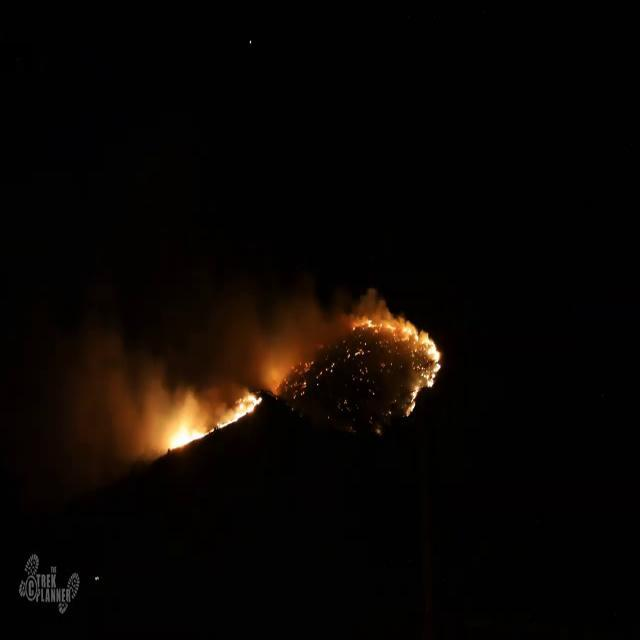Fire: (356, 311, 442, 415), (166, 390, 264, 450)
Smoke: (17, 282, 391, 494)
